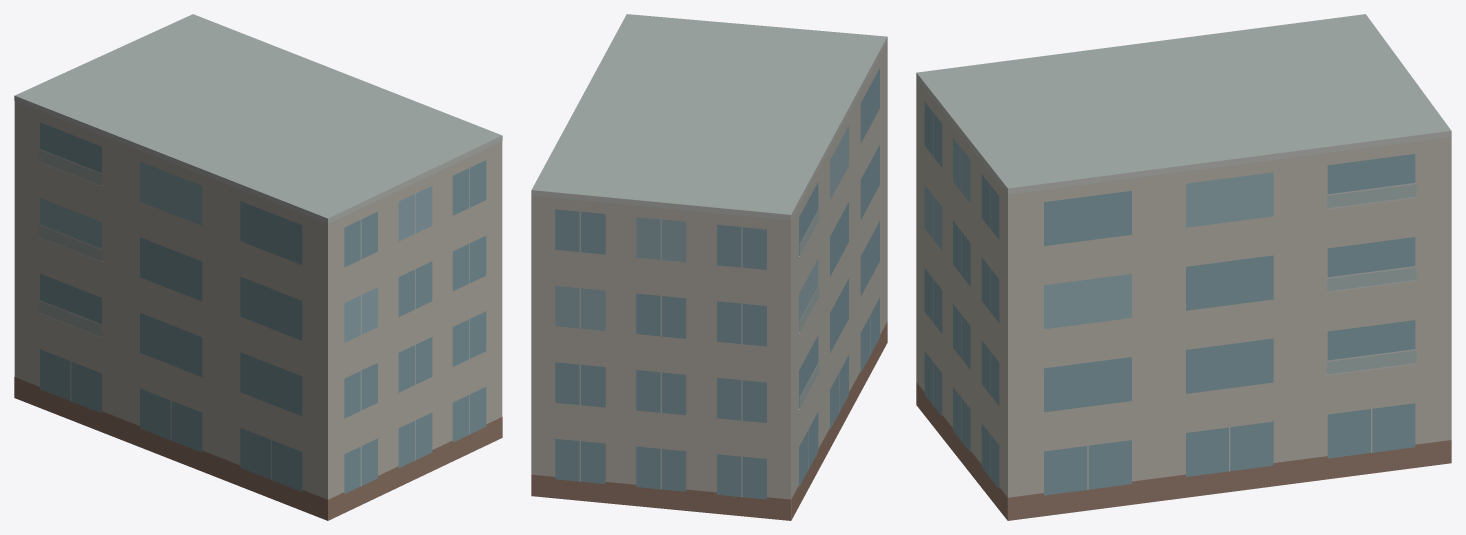
File: survey-upis-32898505.glb
3 views of the same model, side by side, from view 1: azimuth 30°, elevation 25°; view 2: azimuth 150°, elevation 25°; view 3: azimuth 270°, elevation 25° (orthographic). The views are drawn at different scales.
Visible parts, largest first — view 1: survey-upis-32898505.tmp; view 2: survey-upis-32898505.tmp; view 3: survey-upis-32898505.tmp.
Part boxes in pixels (x1,y1,x2,y2): survey-upis-32898505.tmp: (14,14,502,520); survey-upis-32898505.tmp: (531,14,887,520); survey-upis-32898505.tmp: (916,14,1451,520).
Bounding box in the file's own units: 15.07 × 13.38 × 19.53.
